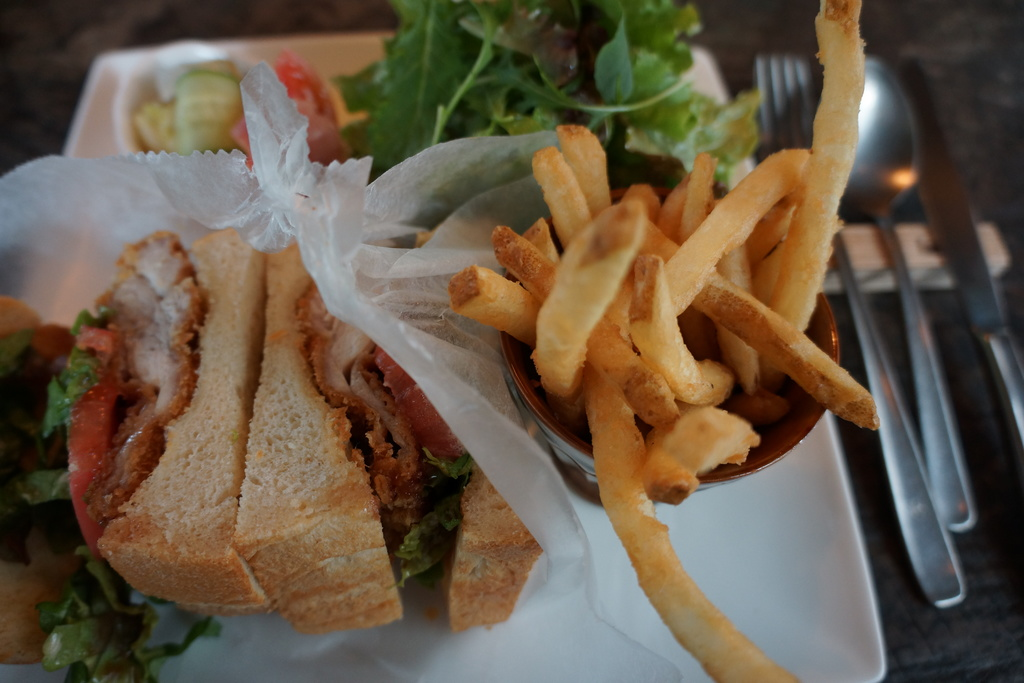French fries: (466, 89, 880, 513)
